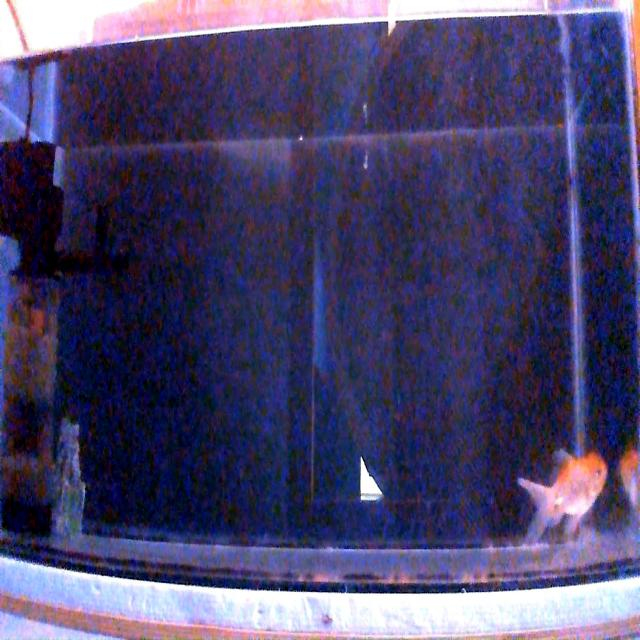fish: (518, 446, 608, 545), (618, 442, 640, 515)
